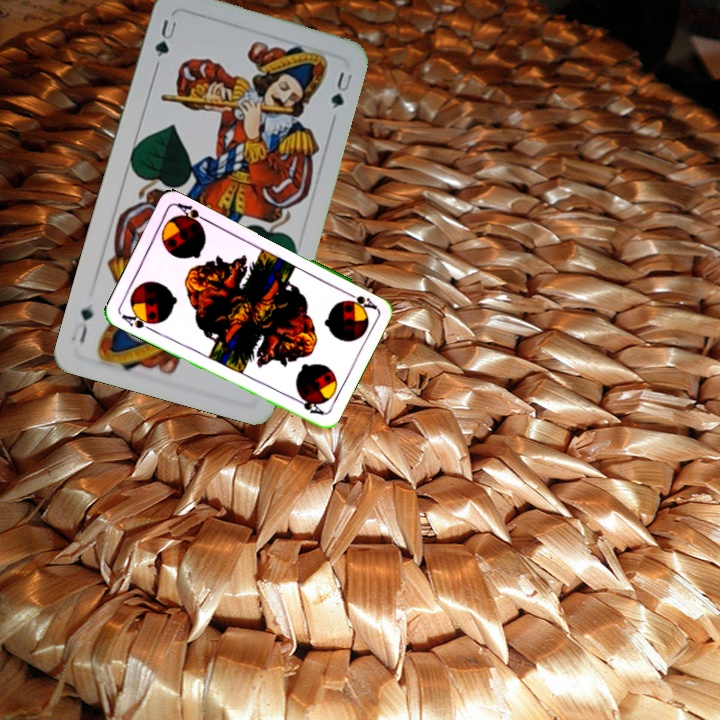GU: (150, 15, 179, 60)
SA: (117, 307, 158, 334), (340, 287, 378, 313)
